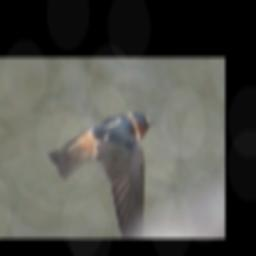Swallow: (47, 107, 154, 238)
